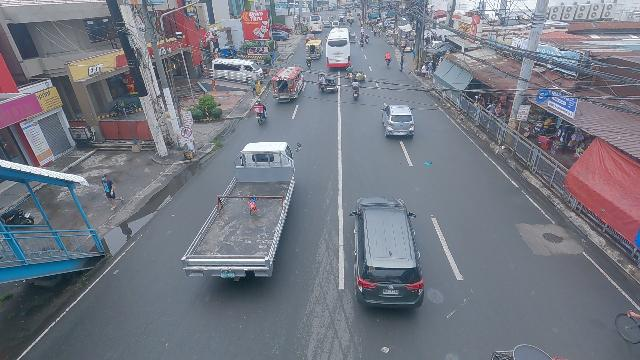bus: (326, 28, 351, 68), (309, 13, 323, 33)
car: (348, 195, 426, 311), (381, 104, 415, 138), (271, 30, 290, 41), (323, 21, 330, 28)
jeepney: (271, 66, 306, 102), (305, 39, 324, 60), (338, 15, 346, 25)
motorcycle: (253, 98, 267, 125), (350, 79, 361, 102), (305, 54, 312, 71), (359, 37, 364, 47), (365, 34, 369, 44), (360, 27, 364, 37), (349, 19, 353, 26)
truck: (179, 141, 299, 280)
van: (214, 57, 262, 79), (331, 20, 340, 28)
